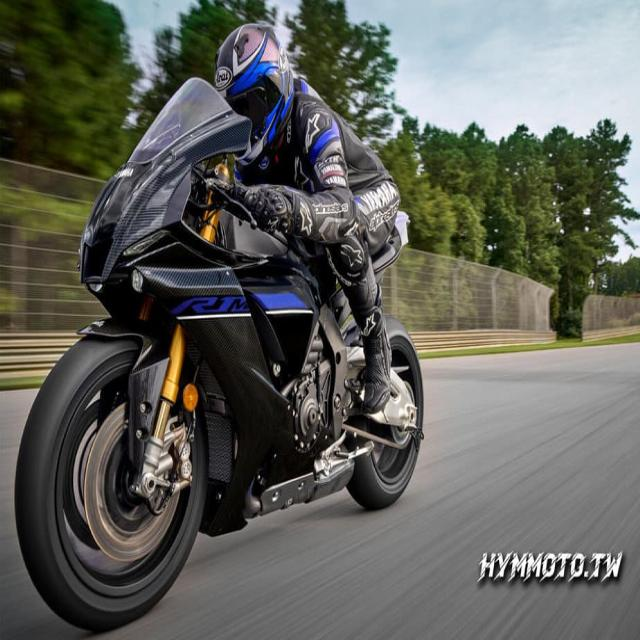Bike: (15, 79, 422, 630), (372, 216, 406, 282)
